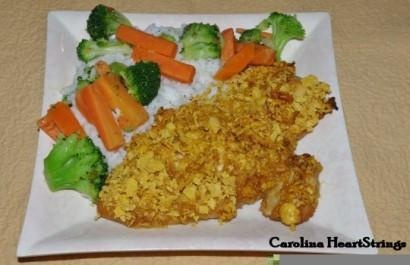background: (22, 1, 217, 95)
